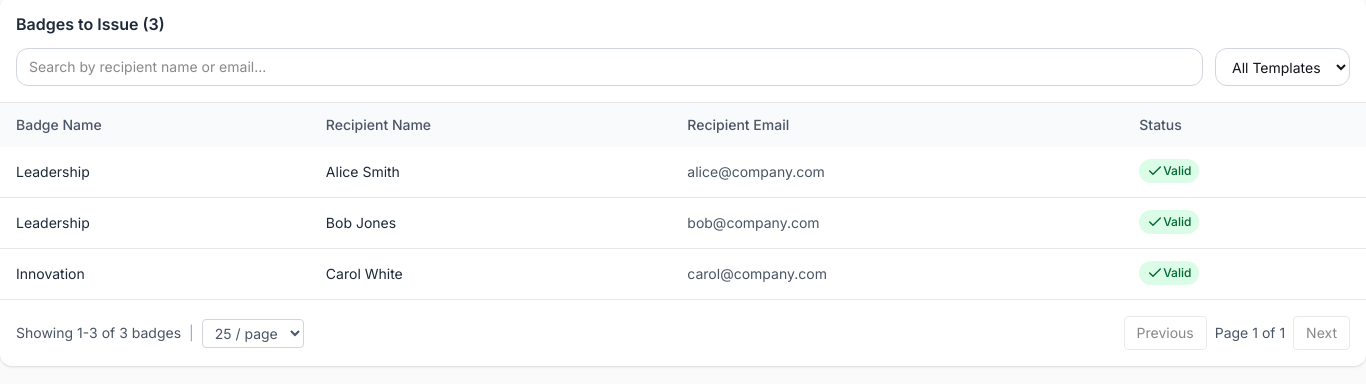
Test: BulkPreviewTable › should filter by template name
Select "Innovation" in the dropdown named "Filter by template". click: (1282, 67)
box: [1215,48,1350,86]
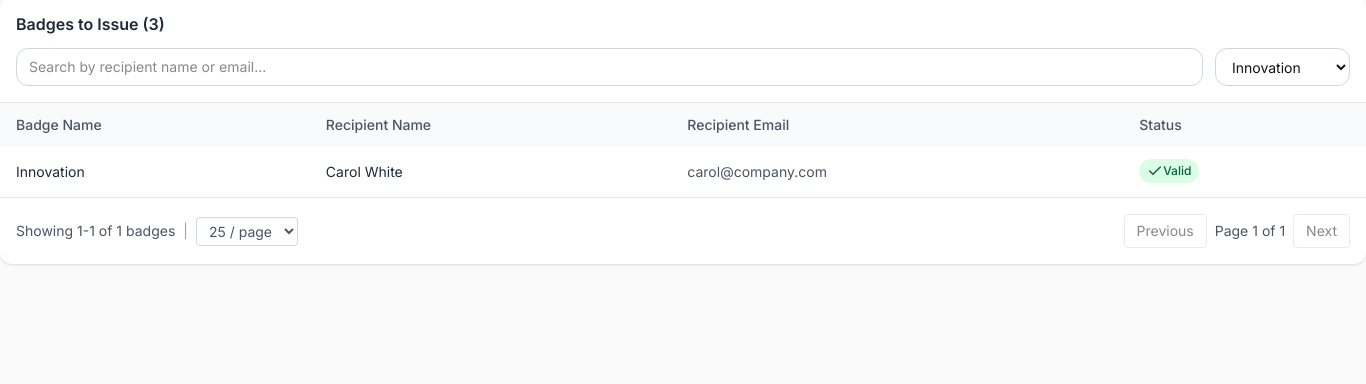
Check: the text "Carol White" is shown, box [310,147,671,197]
Check: the text "Alice Smith" is gone
Check: the text "Bob Jones" is gone
